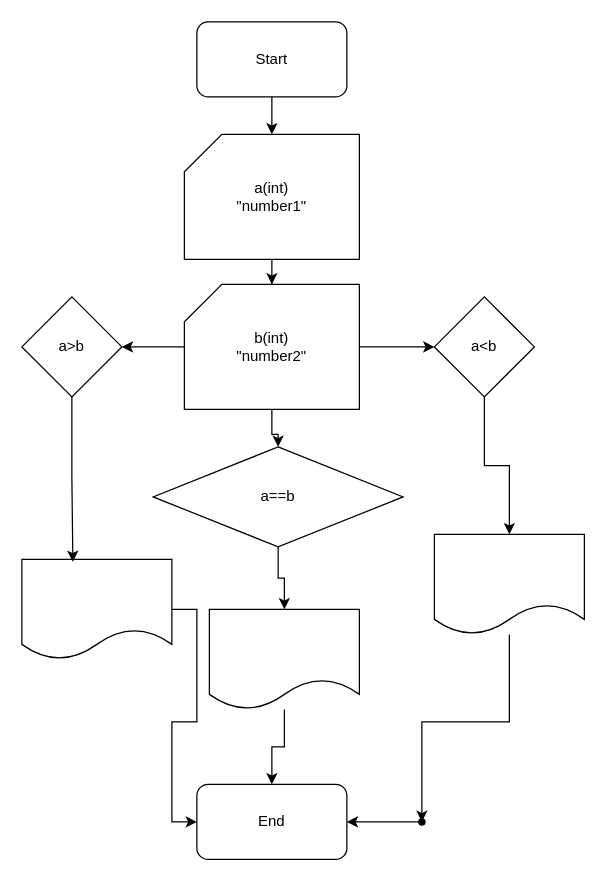
The diagram is 606 pixels wide and 881 high, and some of its shapes have lost their labels. Here are the shapes that lost their labels. From the top down, the centre of each, then its label:
the point at 508,583: print b
the point at 96,608: print a
the point at 283,658: print a,b
